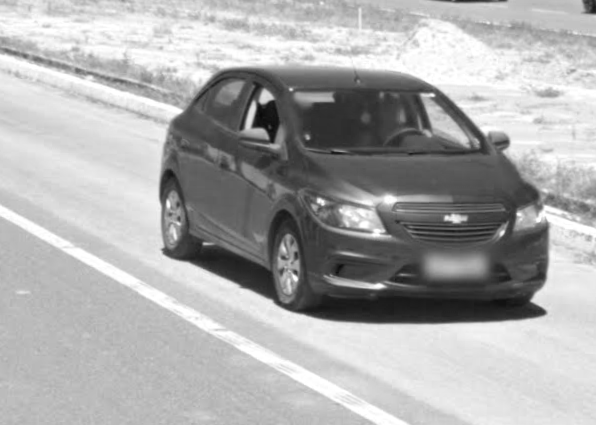car: (156, 49, 554, 318)
